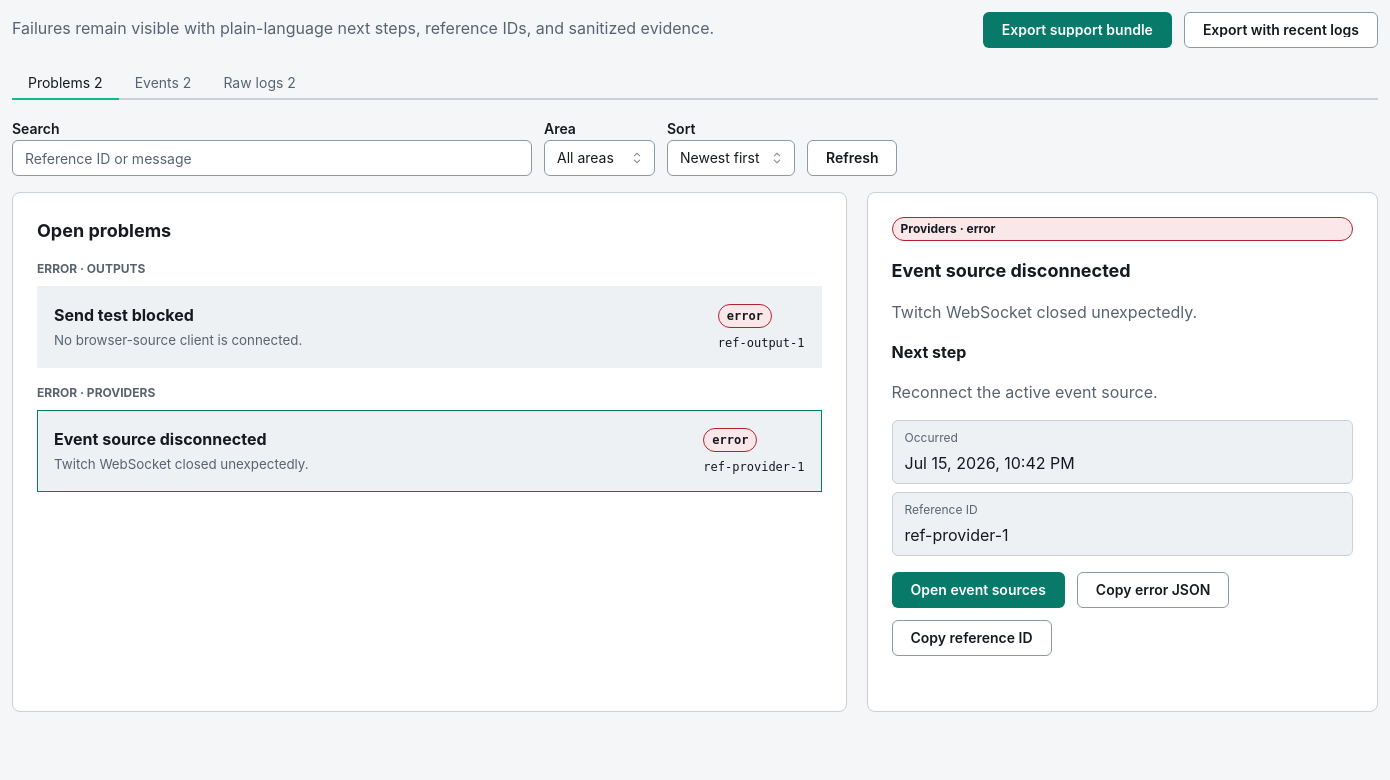
Test case: DiagnosticsPanel › copies the selected sanitized problem as formatted JSON
Check: the heading "Open problems" is shown, box [37,217,171,244]
Click the button "Copy error JSON" at {"x": 1153, "y": 590}, box [1077,572,1229,608]
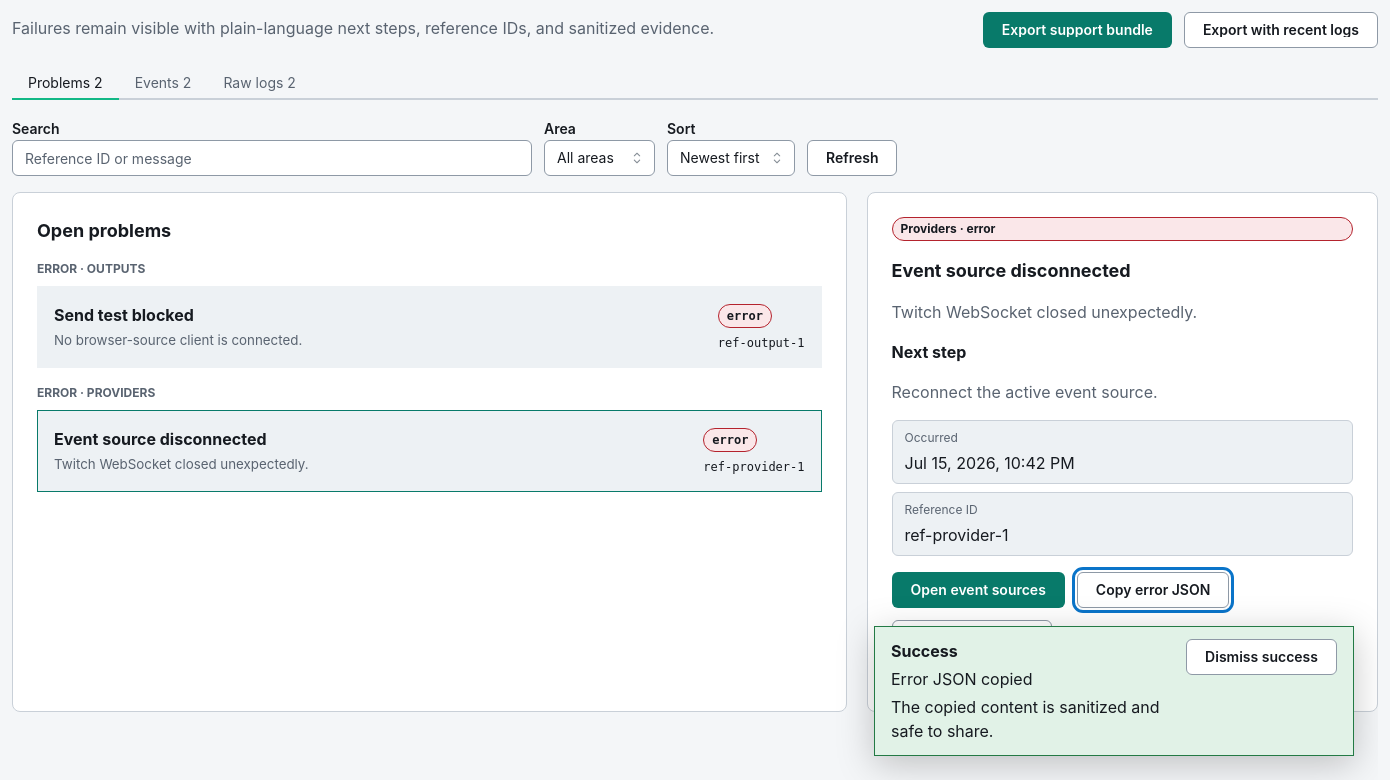
Check: the text "Error JSON copied" is shown, box [891,669,1032,689]
